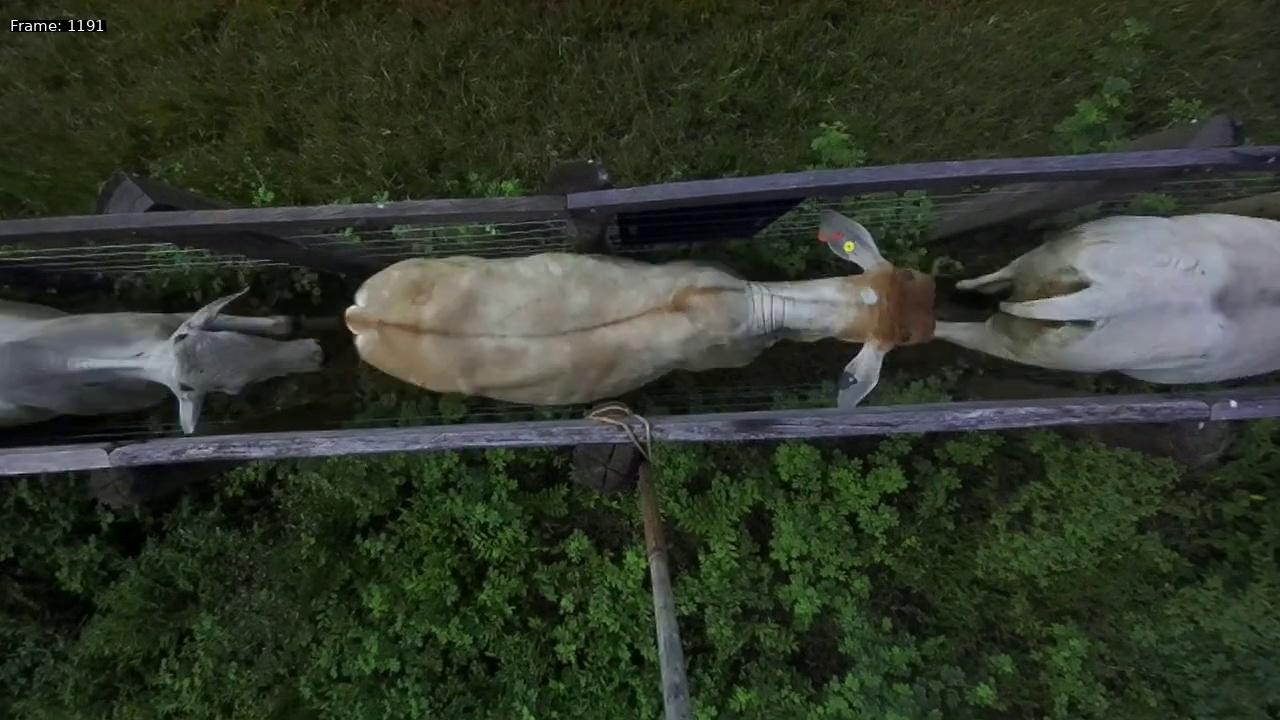cattle: (337, 199, 953, 416)
